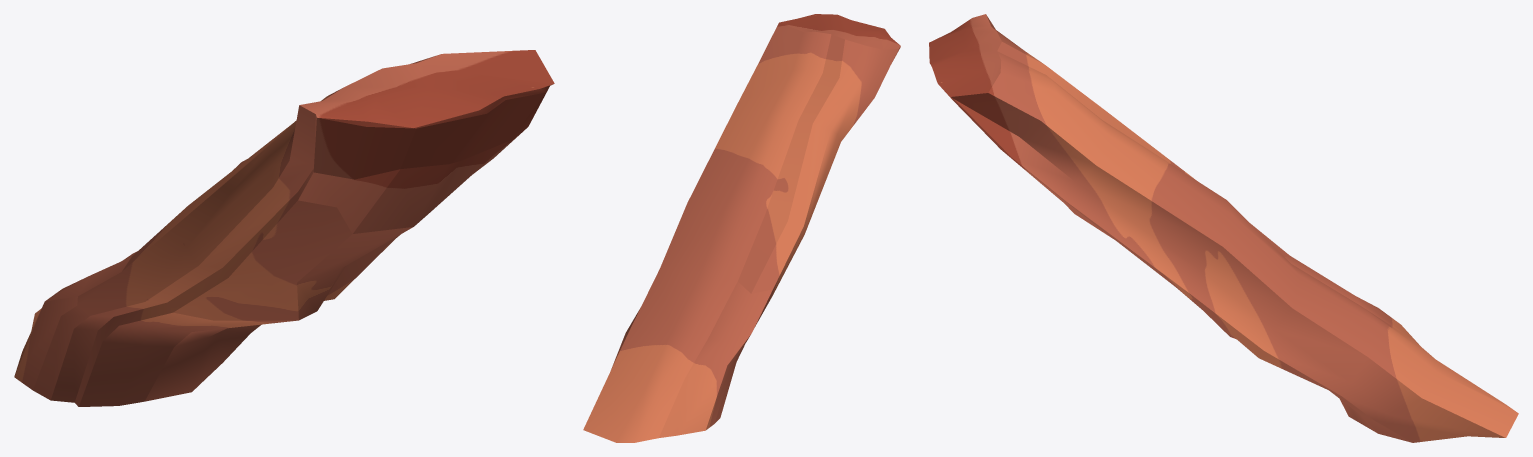
The model's file is RampBridge01.fbx.
3 renders of one model, left to right at view 1: azimuth 30°, elevation 25°; view 2: azimuth 150°, elevation 25°; view 3: azimuth 270°, elevation 25°, orthographic. The views are drawn at different scales.
Visible parts, largest first — view 1: RampBridge01; view 2: RampBridge01; view 3: RampBridge01.
Boxes of the visible parts, <box> form: RampBridge01: <box>14,50,554,406</box>; RampBridge01: <box>583,14,900,442</box>; RampBridge01: <box>929,14,1518,442</box>.
Size of the model in its own units: 670 by 1244 by 1890.
